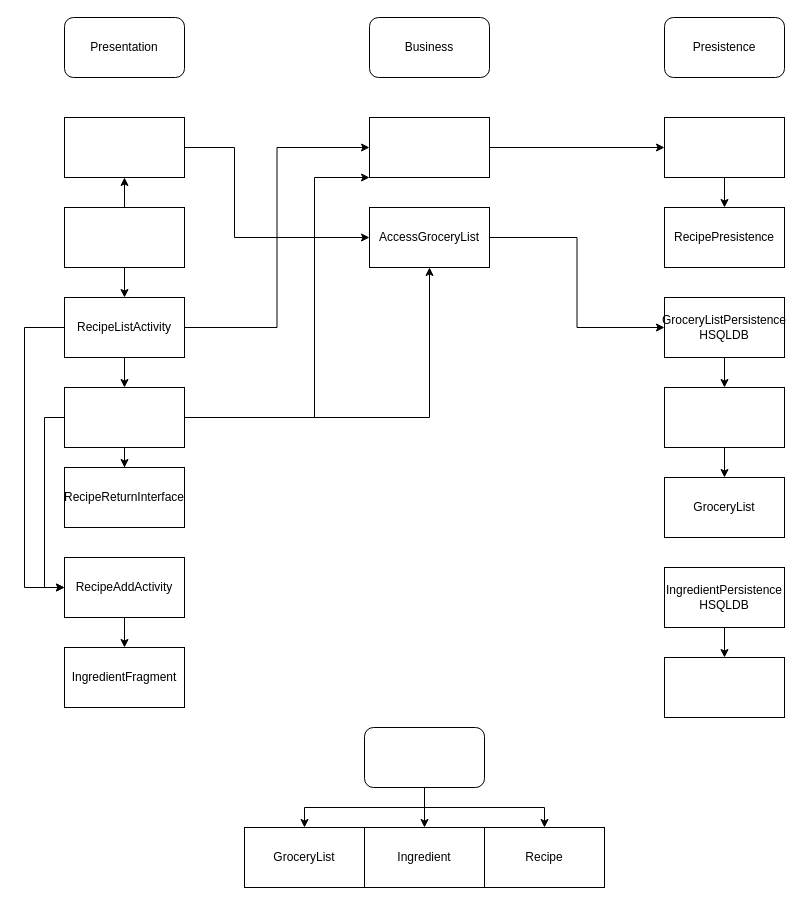
This 804x905 diagram has some shape labels left out. Each missing label, with the centre of its shape:
"AccessRecipe" goes at (429,147).
"Domain Specific Object" goes at (424,757).
"GroceryListActivity" goes at (124,147).
"GroceryListPersistence" goes at (724,417).
"HomeActivity" goes at (124,237).
"IngredientPersistence" goes at (724,687).
"RecipePresistence HSQLDB" goes at (724,147).
"RecipeViewerActivity" goes at (124,417).
